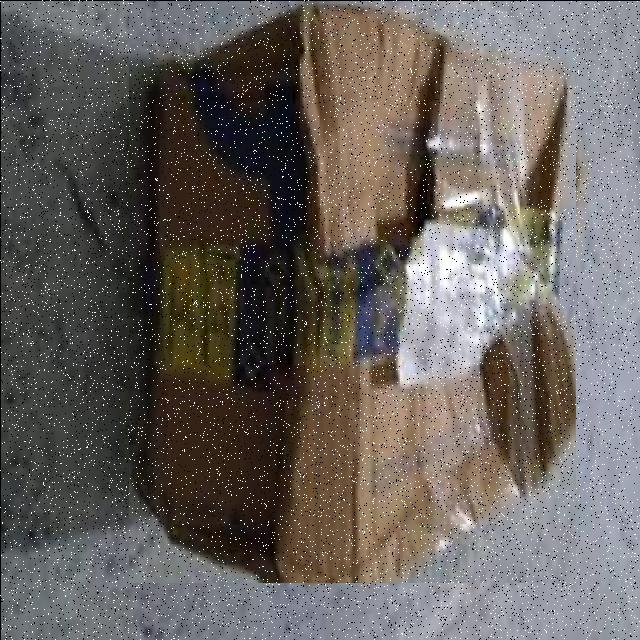defect: (128, 0, 575, 582)
